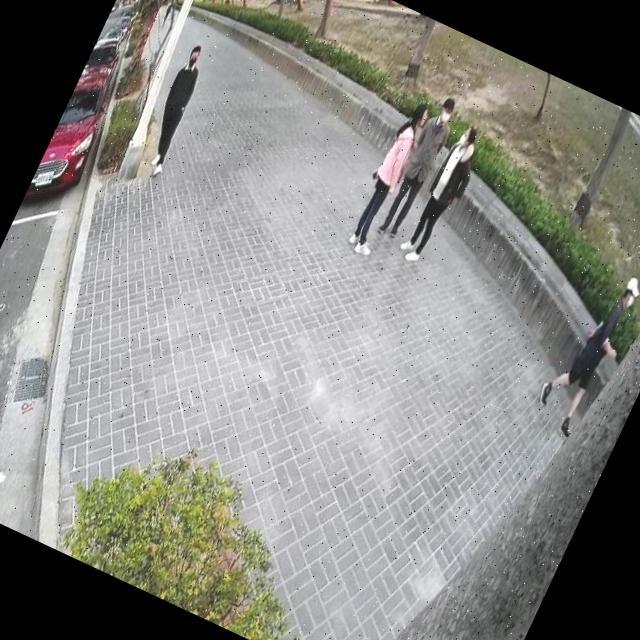person: (525, 257, 640, 446), (338, 90, 443, 262), (394, 114, 496, 273), (374, 90, 465, 242), (130, 36, 222, 186)
